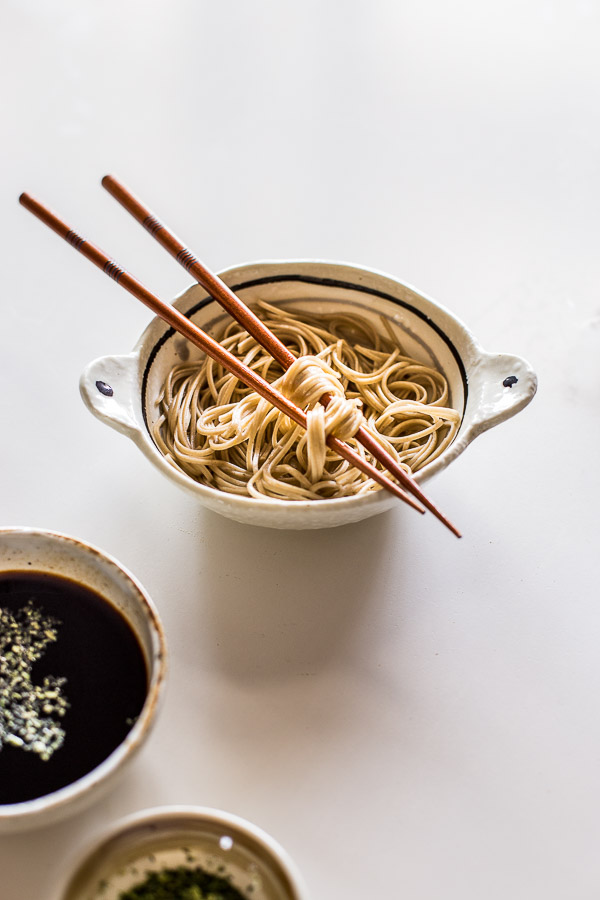Soba: (150, 300, 465, 494)
